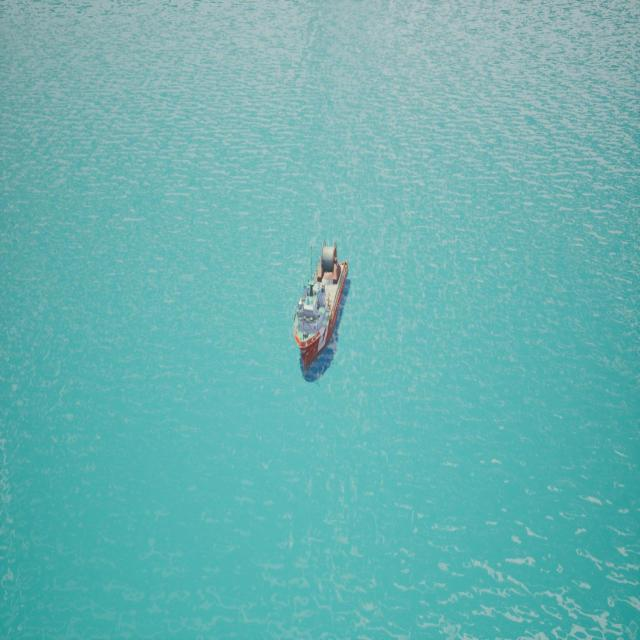tug boat: (289, 221, 367, 381)
